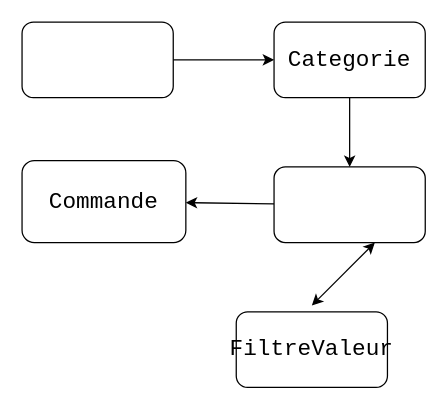
This 447x410 diagram has some shape labels left out. Each missing label, with the centre of its shape:
Produit: point 349,204
Utilisateur: point 97,59
